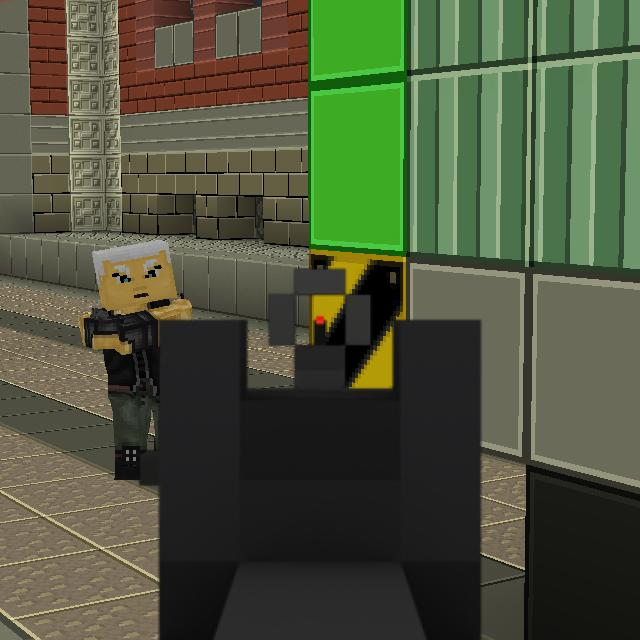enemy: (76, 229, 199, 477)
